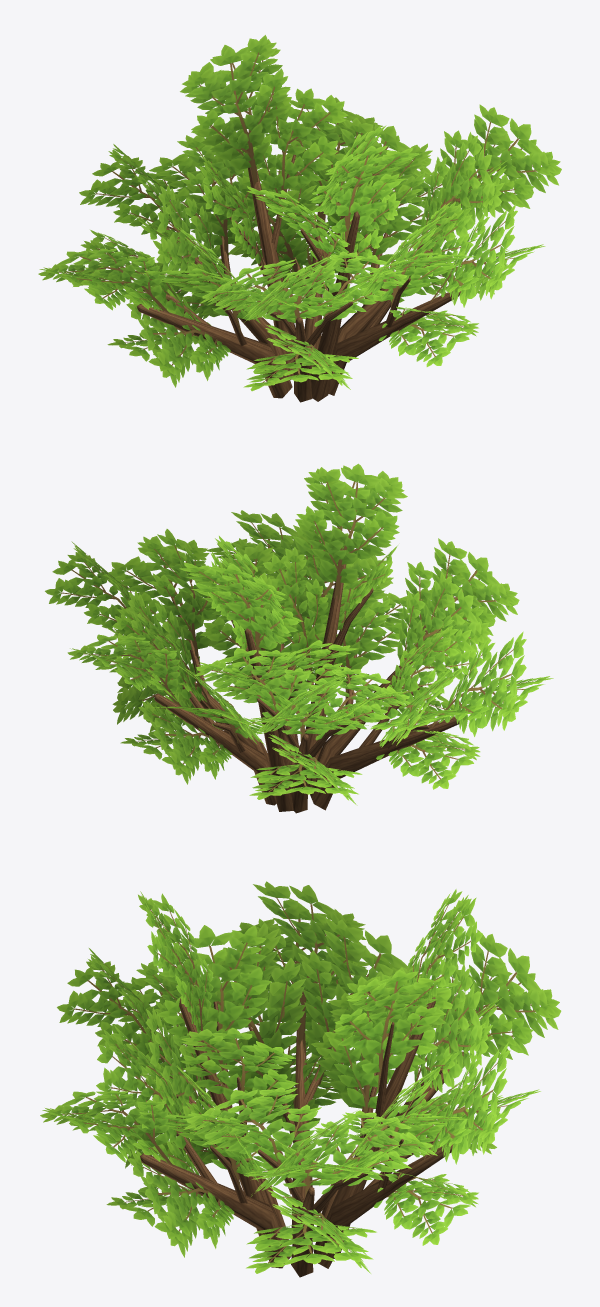
The model's file is shrub.glb.
3 renders of one model, top to bottom at view 1: azimuth 30°, elevation 25°; view 2: azimuth 150°, elevation 25°; view 3: azimuth 270°, elevation 25°, orthographic. The views are drawn at different scales.
Visible parts, largest first — view 1: ShrubFoliage, ShrubBark; view 2: ShrubFoliage, ShrubBark; view 3: ShrubFoliage, ShrubBark.
Part boxes in pixels (<box>): ShrubFoliage: <box>38,35,561,391</box>; ShrubBark: <box>132,145,460,402</box>; ShrubFoliage: <box>45,463,553,805</box>; ShrubBark: <box>154,564,463,813</box>; ShrubFoliage: <box>40,881,561,1273</box>; ShrubBark: <box>138,997,463,1277</box>.
Bounding box in the file's own units: 1.42 × 0.86 × 1.14.
Materials: 2 (2 with a texture image).
